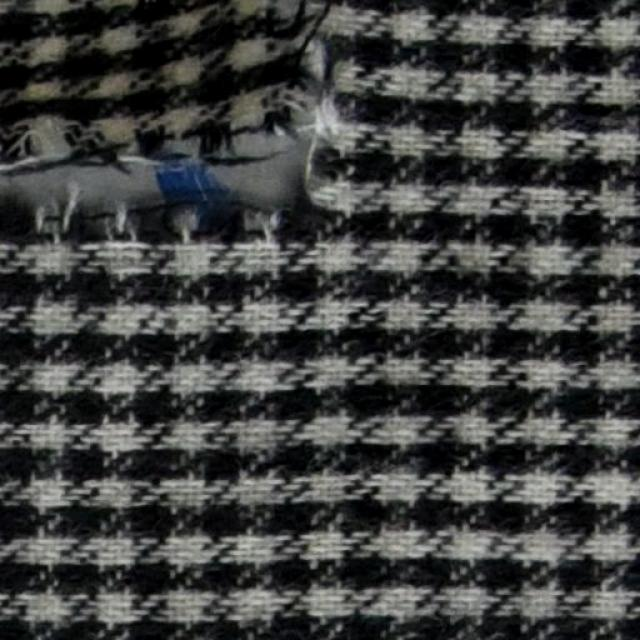Hole: (0, 131, 318, 230)
Snag: (2, 10, 347, 173)
